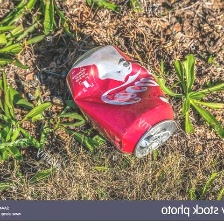can: (58, 41, 179, 161)
